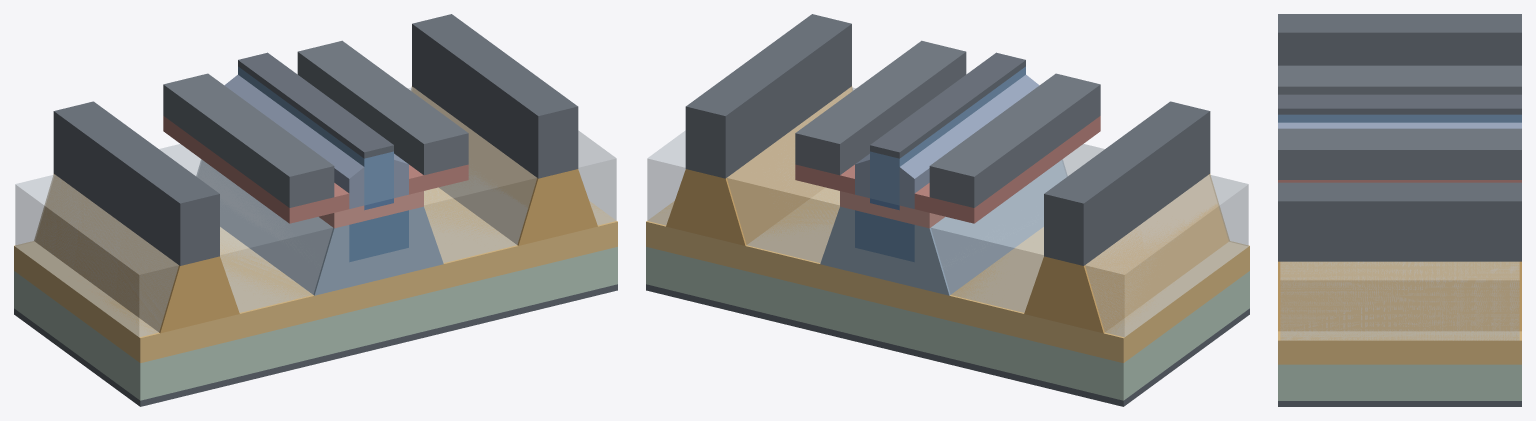
Rendered from sige_hbt_sentaurus.glb.
The picture shows the model from 3 angles, left to right: view 1: azimuth 30°, elevation 25°; view 2: azimuth 150°, elevation 25°; view 3: azimuth 270°, elevation 25°; orthographic projection. The views are drawn at different scales.
Parts seen in each view (by area): view 1: R_CollectorCont, Impl_SubCol_BuriedNPlus, Impl_ColCont_SinkerNPlus, R_Substrate_P, R_BaseContR, R_Insulation_STI_Inner, R_Insulation_STI_Outer, R_CollectorMesa_EpiN, Contact_Emitter, R_Baseright_PolyBase, Contact_Substrate, Nitride_Spacer_Sidewall (+3 smaller); view 2: R_CollectorCont, Impl_SubCol_BuriedNPlus, Impl_ColCont_SinkerNPlus, R_Substrate_P, R_BaseContR, R_Insulation_STI_Inner, R_Insulation_STI_Outer, R_CollectorMesa_EpiN, Contact_Emitter, R_Baseright_PolyBase, Contact_Substrate, Nitride_Spacer_Sidewall (+3 smaller); view 3: R_CollectorCont, R_BaseContR, R_Insulation_STI_Outer, Impl_ColCont_SinkerNPlus, R_Substrate_P, Impl_SubCol_BuriedNPlus, Contact_Emitter, R_Emitter_Poly, Nitride_Spacer_Sidewall, Contact_Substrate, R_Baseright_PolyBase.
Boxes of the visible parts, bbox=[...] form: R_CollectorCont: bbox=[53, 14, 578, 265]; Impl_SubCol_BuriedNPlus: bbox=[14, 187, 617, 362]; Impl_ColCont_SinkerNPlus: bbox=[34, 86, 597, 333]; R_Substrate_P: bbox=[14, 247, 617, 400]; R_BaseContR: bbox=[163, 40, 468, 207]; R_Insulation_STI_Inner: bbox=[159, 87, 536, 312]; R_Insulation_STI_Outer: bbox=[15, 130, 616, 337]; R_CollectorMesa_EpiN: bbox=[196, 159, 443, 295]; Contact_Emitter: bbox=[238, 52, 393, 158]; R_Baseright_PolyBase: bbox=[163, 116, 468, 223]; Contact_Substrate: bbox=[14, 284, 617, 406]; Nitride_Spacer_Sidewall: bbox=[224, 75, 408, 208]; R_CollectorCont: bbox=[685, 14, 1210, 265]; Impl_SubCol_BuriedNPlus: bbox=[646, 187, 1249, 362]; Impl_ColCont_SinkerNPlus: bbox=[666, 86, 1229, 333]; R_Substrate_P: bbox=[646, 247, 1249, 400]; R_BaseContR: bbox=[795, 40, 1100, 207]; R_Insulation_STI_Inner: bbox=[727, 87, 1104, 312]; R_Insulation_STI_Outer: bbox=[647, 130, 1248, 337]; R_CollectorMesa_EpiN: bbox=[820, 159, 1067, 295]; Contact_Emitter: bbox=[870, 52, 1025, 158]; R_Baseright_PolyBase: bbox=[795, 116, 1100, 223]; Contact_Substrate: bbox=[646, 284, 1249, 406]; Nitride_Spacer_Sidewall: bbox=[855, 75, 1039, 208]; R_CollectorCont: bbox=[1278, 14, 1521, 261]; R_BaseContR: bbox=[1278, 65, 1521, 179]; R_Insulation_STI_Outer: bbox=[1280, 261, 1519, 340]; Impl_ColCont_SinkerNPlus: bbox=[1278, 261, 1521, 331]; R_Substrate_P: bbox=[1278, 364, 1521, 400]; Impl_SubCol_BuriedNPlus: bbox=[1278, 331, 1521, 364]; Contact_Emitter: bbox=[1278, 94, 1521, 114]; R_Emitter_Poly: bbox=[1278, 114, 1521, 122]; Nitride_Spacer_Sidewall: bbox=[1278, 122, 1521, 128]; Contact_Substrate: bbox=[1278, 401, 1521, 406]; R_Baseright_PolyBase: bbox=[1278, 180, 1521, 182].
Size of the model in its own units: 24 by 9.6 by 11.
